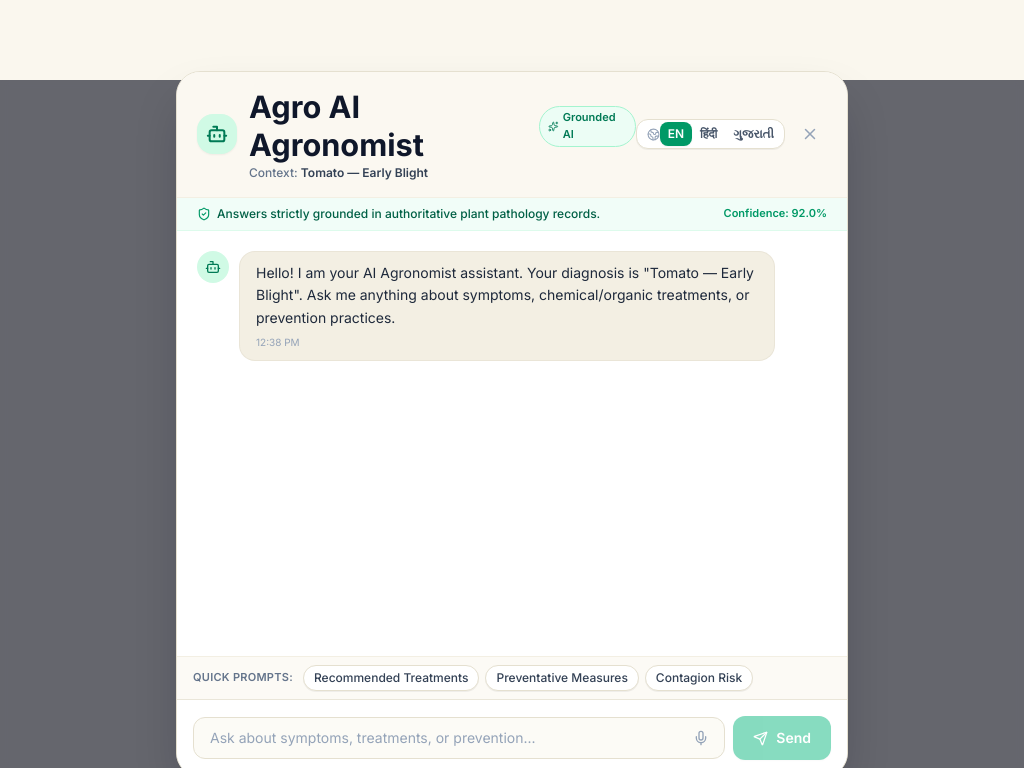
Test: DiagnosisChatAssistant Component › switches language between English, Hindi, and Gujarati
Click the button named "switch language to hindi" at (709, 134), box [692,122,725,146]
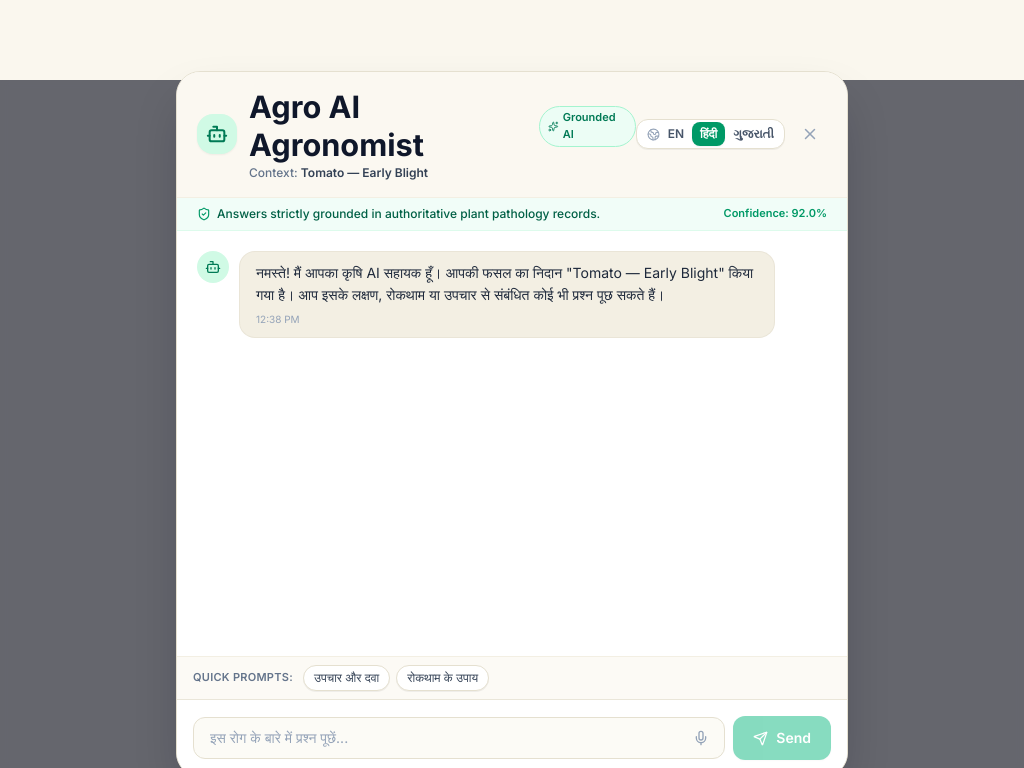
Result: the text "नमस्ते! मैं आपका कृषि AI सहायक हूँ" is shown at [256,264,757,303]
Result: the button "उपचार और दवा" is shown at [303,665,390,691]
Click the button with aria-label "switch language to gujarati" at (754, 134), box [725,122,782,146]
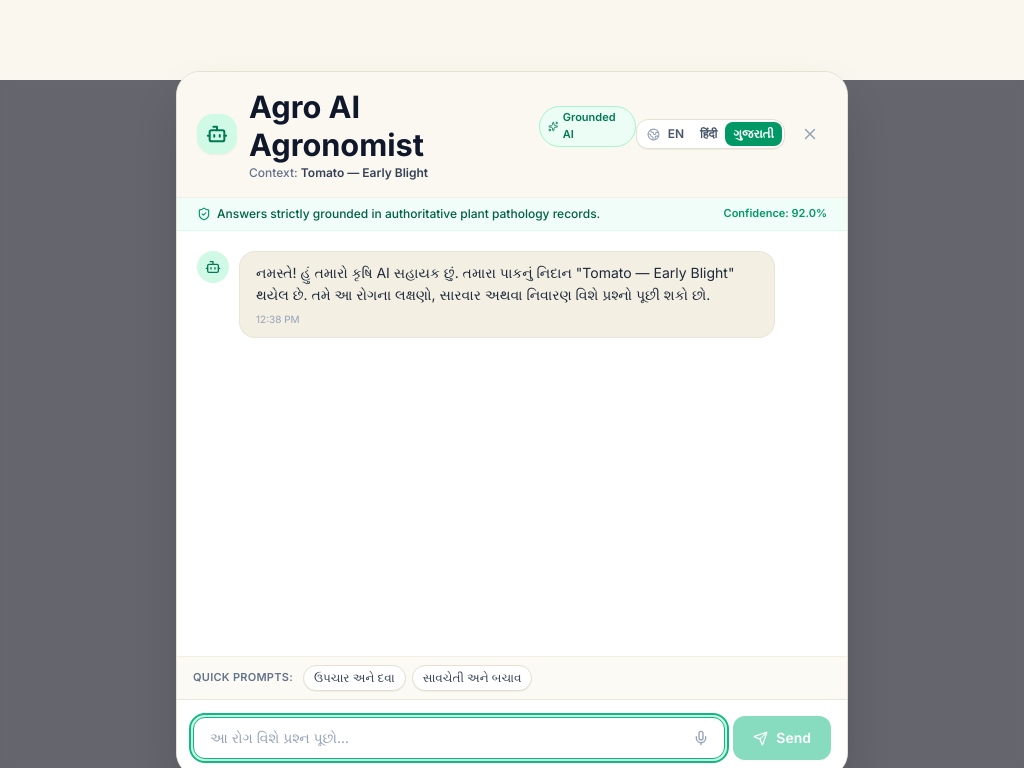
Result: the text "નમસ્તે! હું તમારો કૃષિ AI સહાયક છું" is shown at [256,264,738,303]
